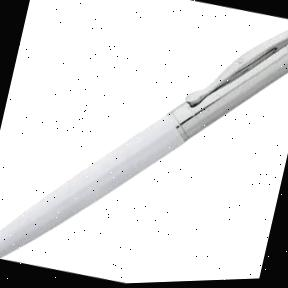pen-pencil: (0, 29, 288, 257)
